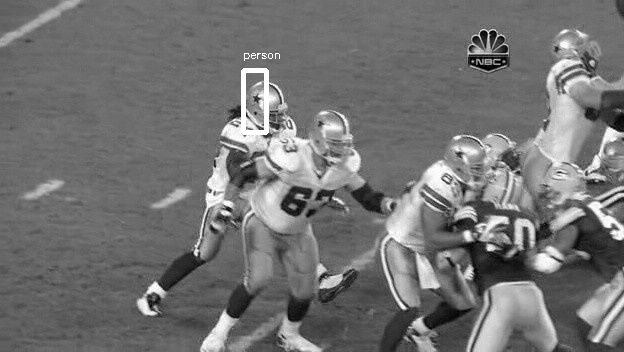person: (252, 82, 287, 127), (251, 82, 286, 127), (253, 82, 288, 127), (252, 81, 287, 126), (252, 83, 287, 128)
target_negative: (38, 82, 602, 324), (236, 218, 376, 301), (518, 208, 618, 278), (133, 265, 202, 332), (462, 102, 470, 302), (505, 243, 524, 260)
